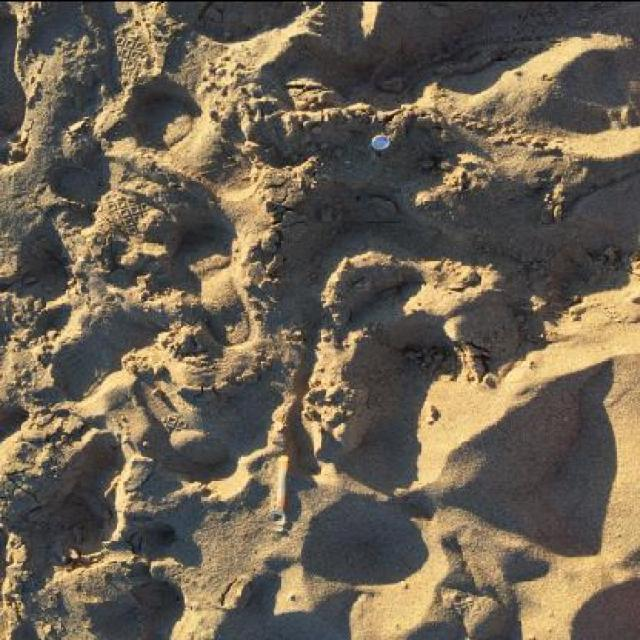other: (270, 454, 285, 529)
plastic: (372, 133, 390, 149)
